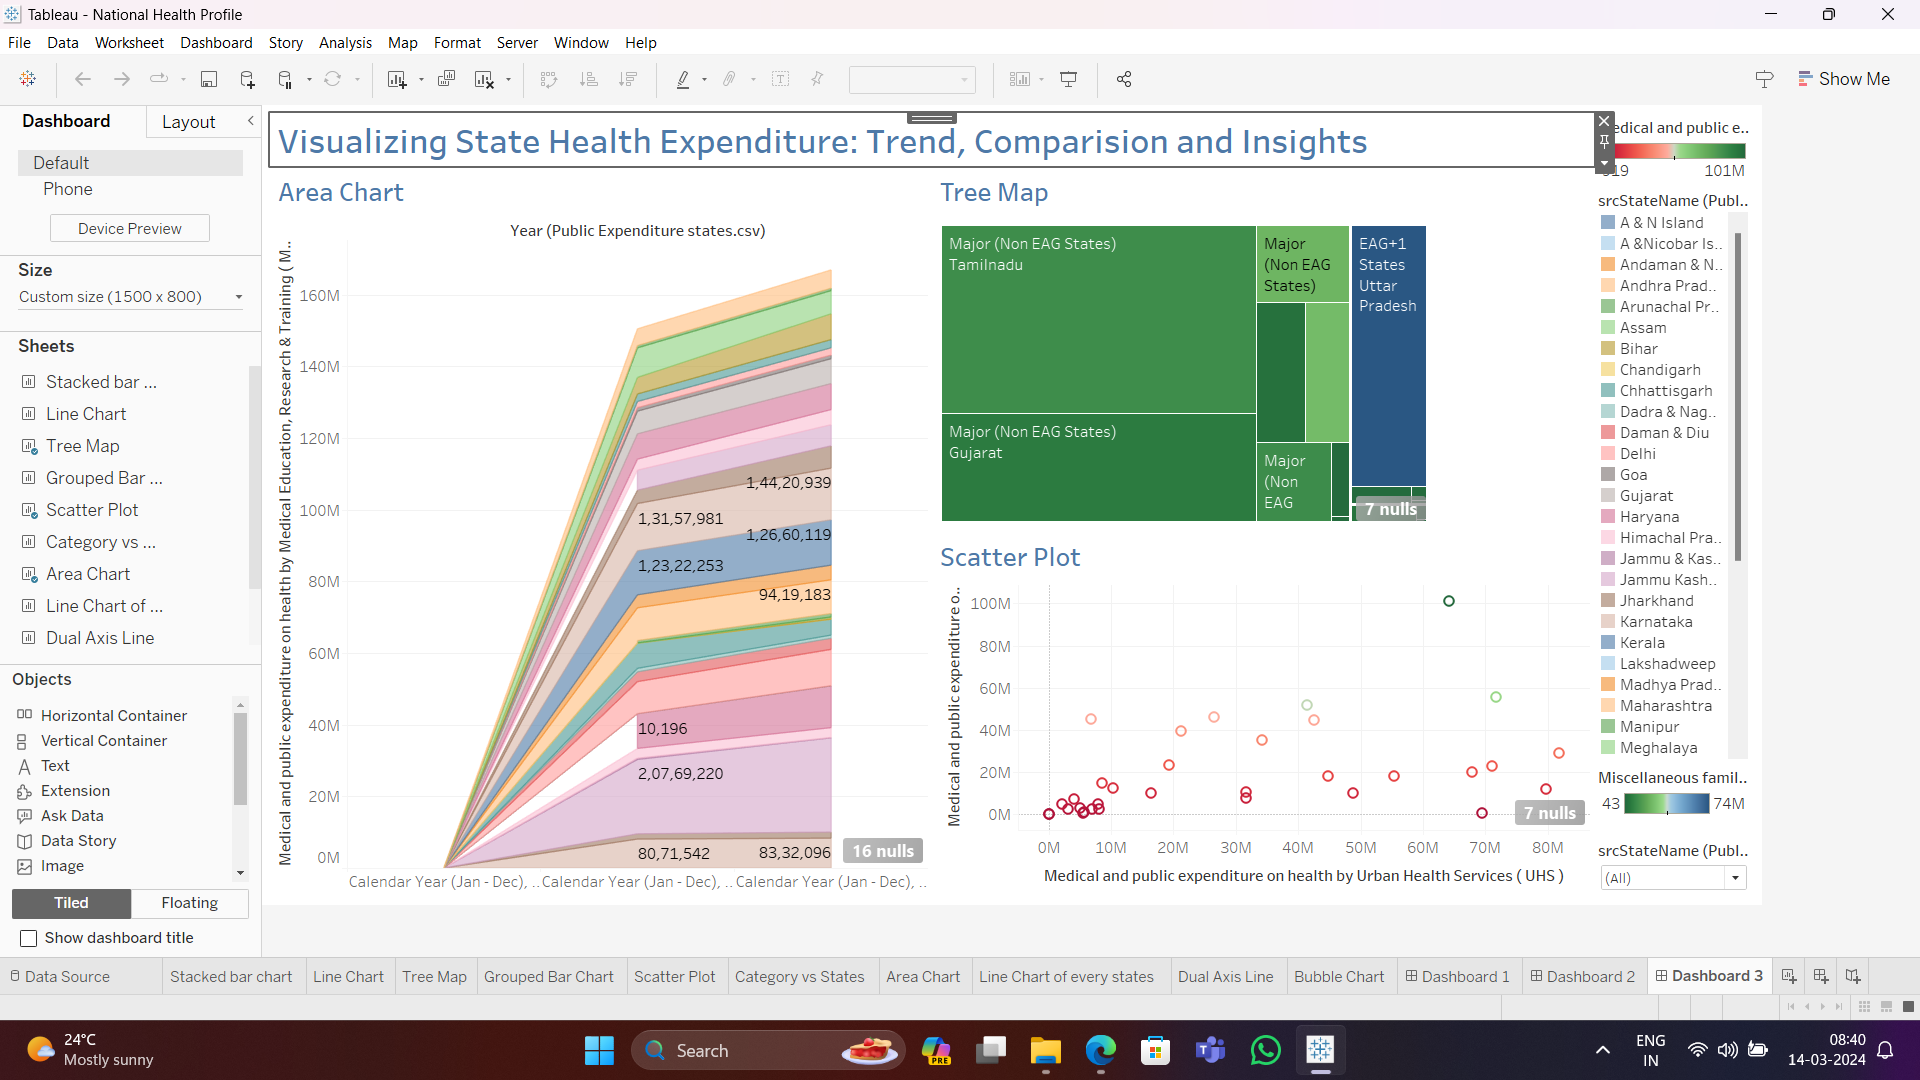

This screenshot's page, from the dashboard's own definition file:
{"tool":"tableau","page":{"name":"Dashboard 3","canvas":[1500,800],"ordinal":2},"visuals":[{"type":"title","box":[8,8,1324,53]},{"type":"legend","title":"Scatter Plot","param":"[federated.0fao5pk0phrhz61fczgl31r1oml0].[sum:Medical and public expenditure on ","box":[1332,8,160,73]},{"type":"worksheet","title":"Area Chart","mark":"Area","cols":["Year (Public_Expenditure_states.csv)"],"box":[8,61,662,731]},{"type":"worksheet","title":"Tree Map","mark":"Automatic","box":[670,61,662,365.5]},{"type":"legend","title":"Area Chart","param":"[federated.0fao5pk0phrhz61fczgl31r1oml0].[none:srcStateName (Public_Expenditure_","box":[1332,81,160,577]},{"type":"worksheet","title":"Scatter Plot","mark":"Automatic","rows":["Medical and public expenditure on health by Rural Health Ser"],"cols":["Medical and public expenditure on health by Urban Health Ser"],"box":[670,426.5,662,365.5]},{"type":"legend","title":"Tree Map","param":"[federated.0fao5pk0phrhz61fczgl31r1oml0].[sum:Miscellaneous family welfare expen","box":[1332,658,160,73]},{"type":"filter","title":"Area Chart","param":"[federated.0fao5pk0phrhz61fczgl31r1oml0].[none:srcStateName (Public_Expenditure_","box":[1332,731,160,61]}]}

Visuals, with their boxes on the page's 1500x800 design canvas (x1, y1, x2, y2). These are canvas units, not pixel positions in the 1920x1080 screenshot, which may show the page scaled, cropped or inside an application window:
title: BBox(8, 8, 1332, 61)
"Scatter Plot" legend: BBox(1332, 8, 1492, 81)
"Area Chart" worksheet (Area marks): BBox(8, 61, 670, 792)
"Tree Map" worksheet: BBox(670, 61, 1332, 426)
"Area Chart" legend: BBox(1332, 81, 1492, 658)
"Scatter Plot" worksheet: BBox(670, 426, 1332, 792)
"Tree Map" legend: BBox(1332, 658, 1492, 731)
"Area Chart" filter: BBox(1332, 731, 1492, 792)
